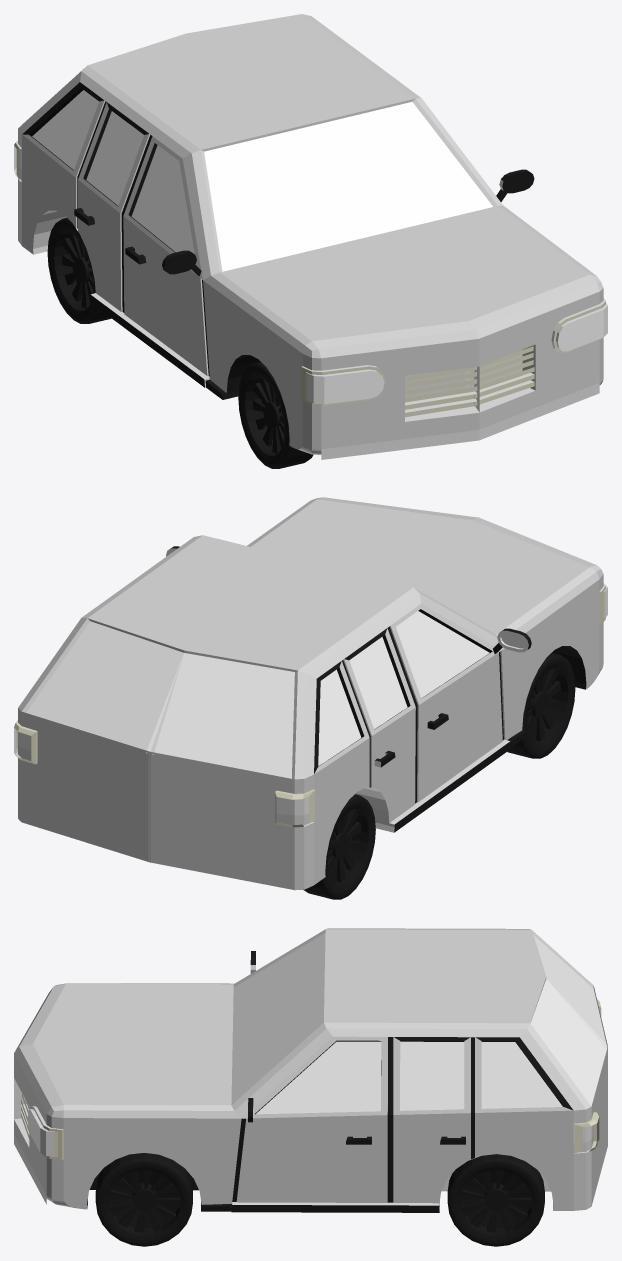
File: greycar.glb
3 views of the same model, one above another, from view 1: azimuth 30°, elevation 25°; view 2: azimuth 150°, elevation 25°; view 3: azimuth 270°, elevation 25° (orthographic). The views are drawn at different scales.
Parts seen in each view (by area): view 1: Cube.049, Cube.051, Unhide.010, Unhide.011, Cube.053, Cube.050, Cube.052; view 2: Cube.049, Cube.051, Unhide.011, Unhide.010, Cube.050, Cube.053; view 3: Cube.049, Cube.051, Unhide.011, Cube.050, Unhide.010, Cube.053.
Boxes of the visible parts, x1,y1,x2,y2 form: Cube.049: (18, 14, 603, 449); Cube.051: (14, 90, 607, 404); Unhide.010: (15, 100, 607, 459); Unhide.011: (47, 218, 313, 468); Cube.053: (14, 140, 605, 417); Cube.050: (22, 82, 506, 399); Cube.052: (162, 169, 534, 274); Cube.049: (18, 497, 603, 890); Cube.051: (14, 587, 607, 778); Unhide.011: (303, 646, 586, 899); Unhide.010: (14, 548, 607, 832); Cube.050: (314, 609, 526, 832); Cube.053: (14, 586, 605, 827); Cube.049: (14, 928, 607, 1210); Cube.051: (27, 933, 607, 1156); Unhide.011: (68, 1153, 544, 1246); Cube.050: (201, 1037, 573, 1212); Unhide.010: (14, 965, 607, 1210); Cube.053: (21, 999, 601, 1159).
Size of the model in its own units: 5.76 by 3.5 by 8.98.
